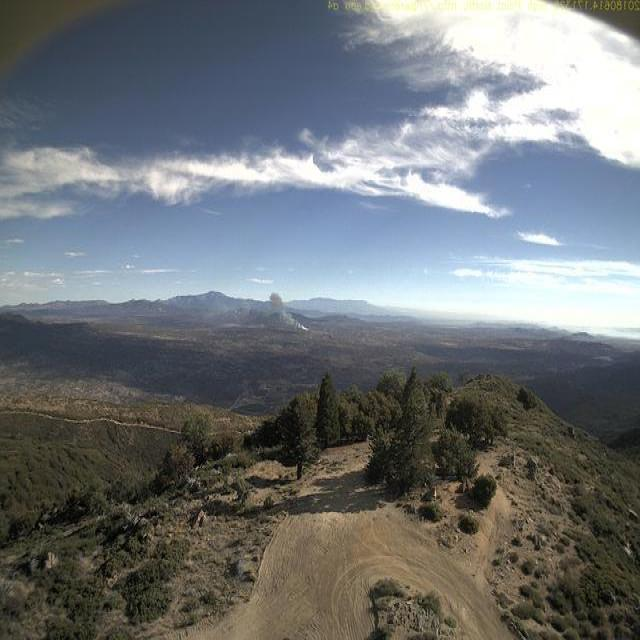Smoke: (263, 290, 314, 338)
